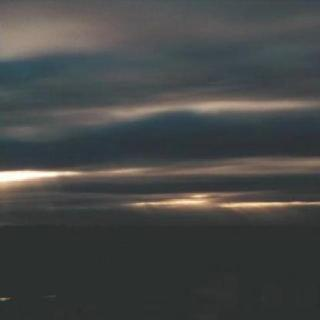Stratocumulus: (0, 0, 320, 238)
